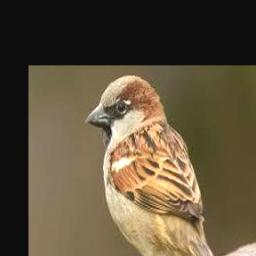Sparrow: (84, 74, 230, 256)
